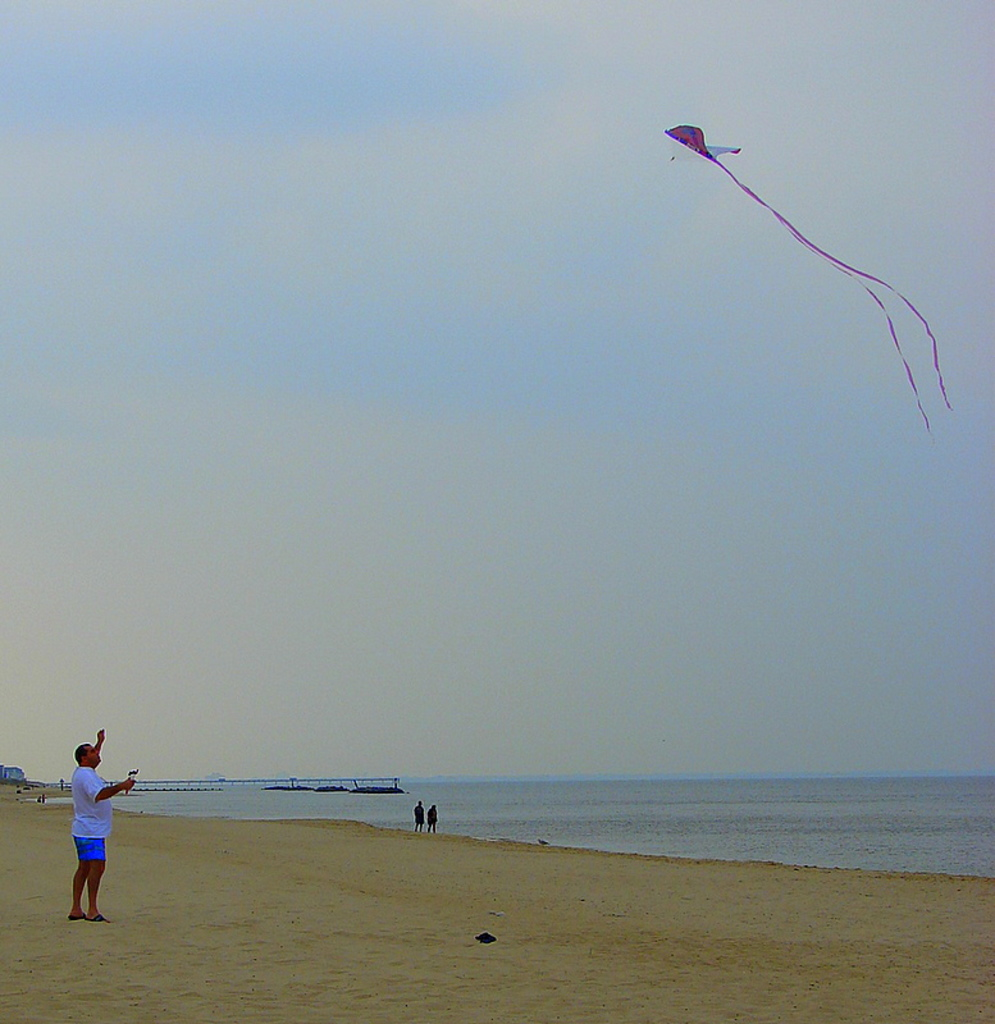kite: (661, 123, 964, 440)
